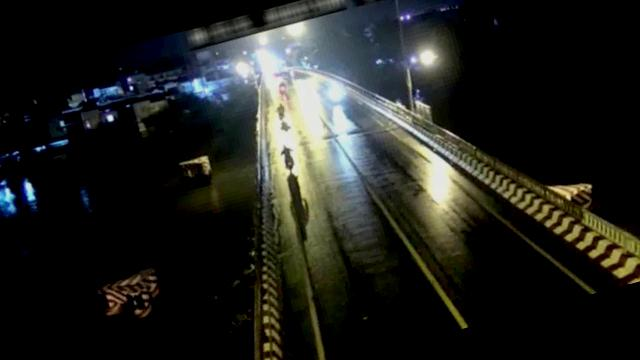Bike: (276, 142, 297, 170), (274, 101, 288, 121), (276, 78, 290, 95)
